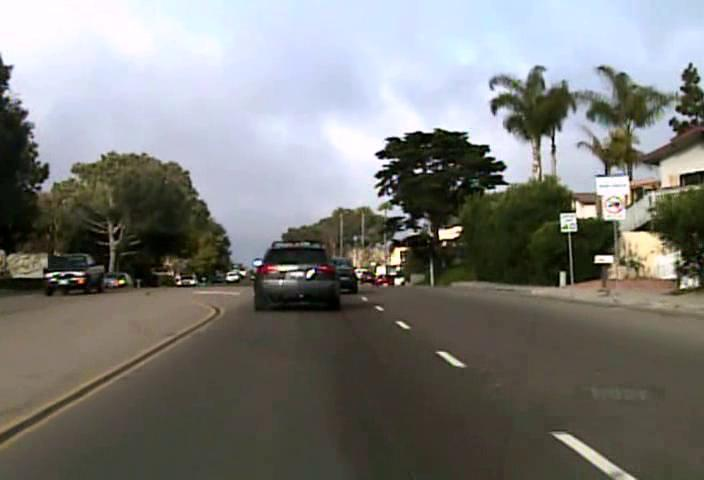speedLimit40: (559, 212, 577, 232)
